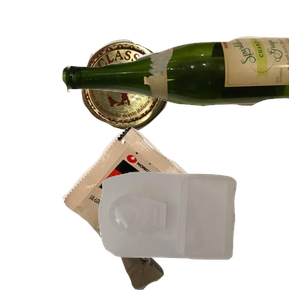glass: (60, 34, 300, 133)
metal: (78, 37, 243, 163)
plastic: (96, 169, 300, 300)
trash: (59, 124, 273, 300)
